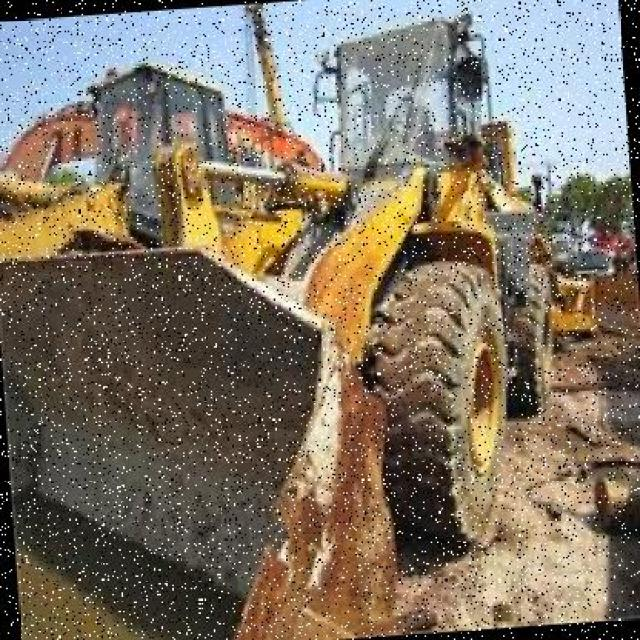buldozerpayloadergrader: (0, 3, 583, 640)
